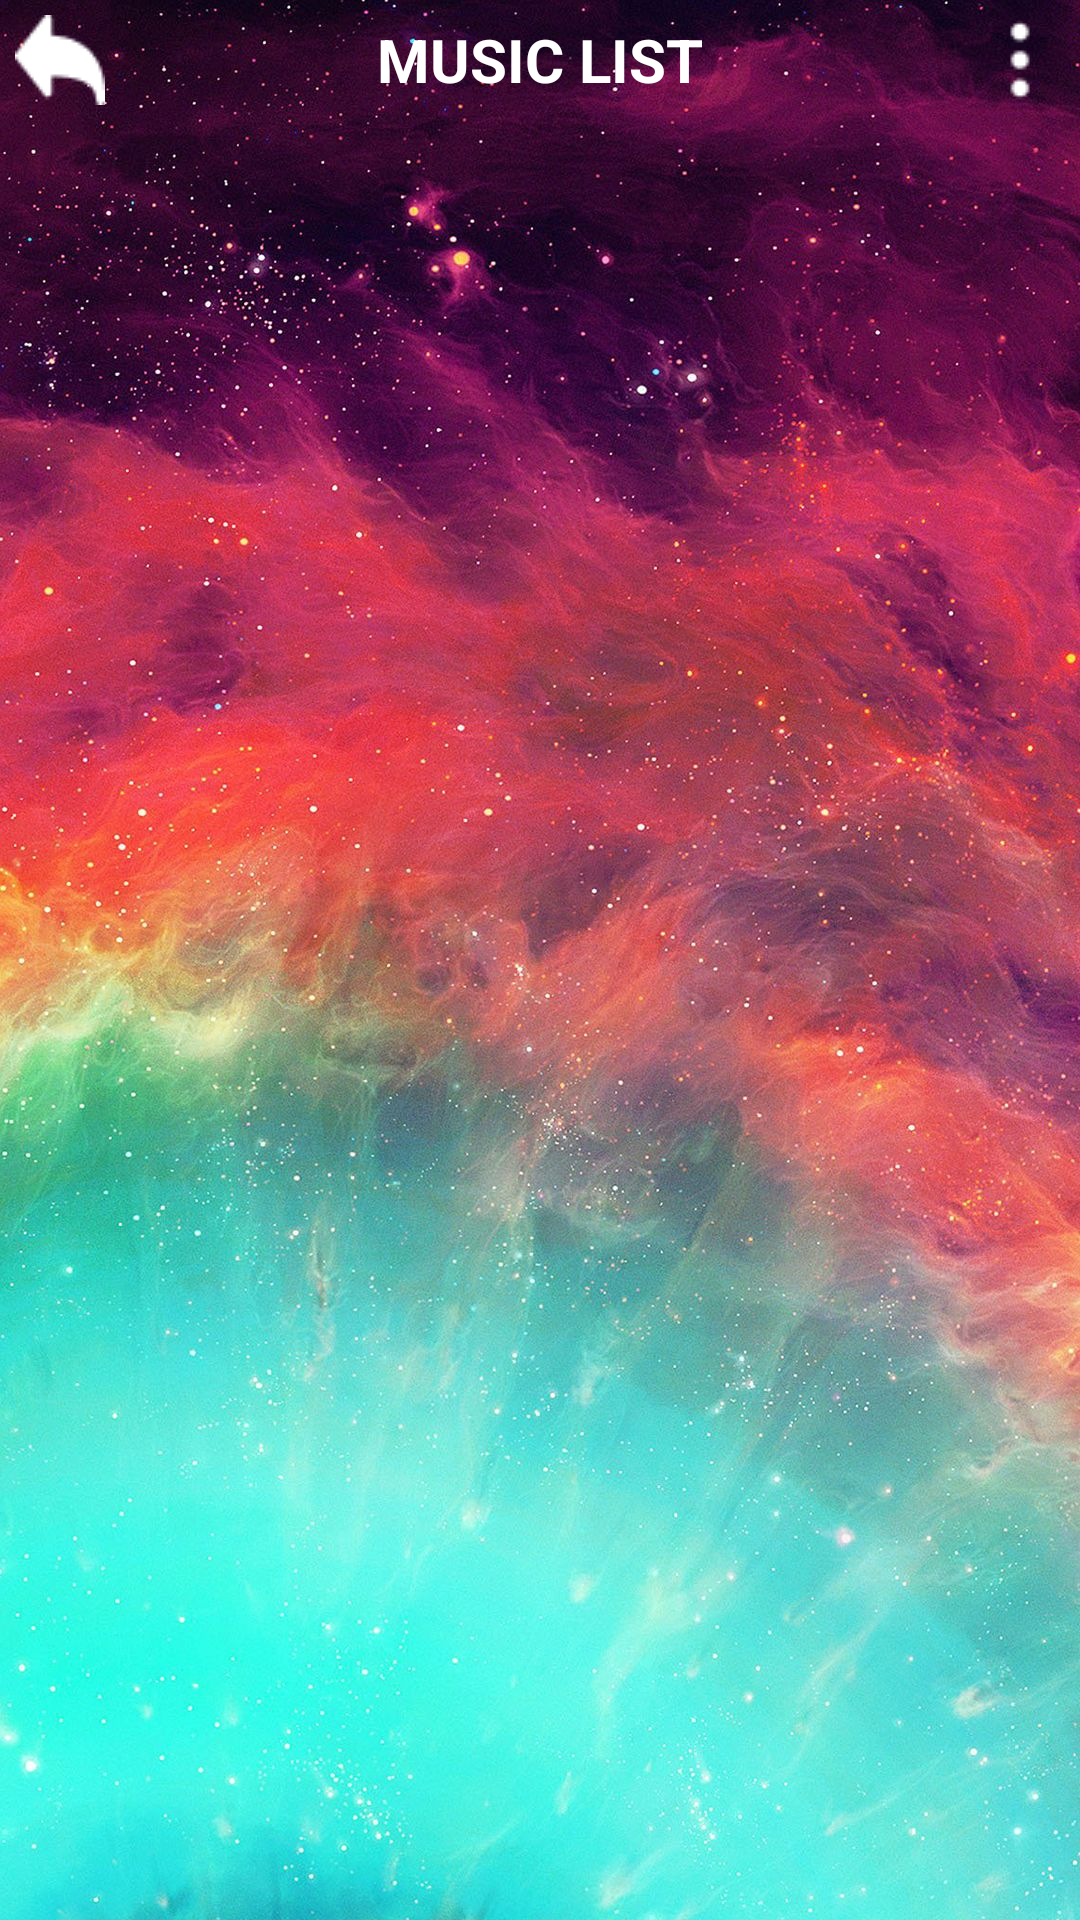

Screen size 1080px x 1920px. Icon name, then its box in pixels as (x1, y1, x2, y2):
back: (0, 0, 120, 120)
